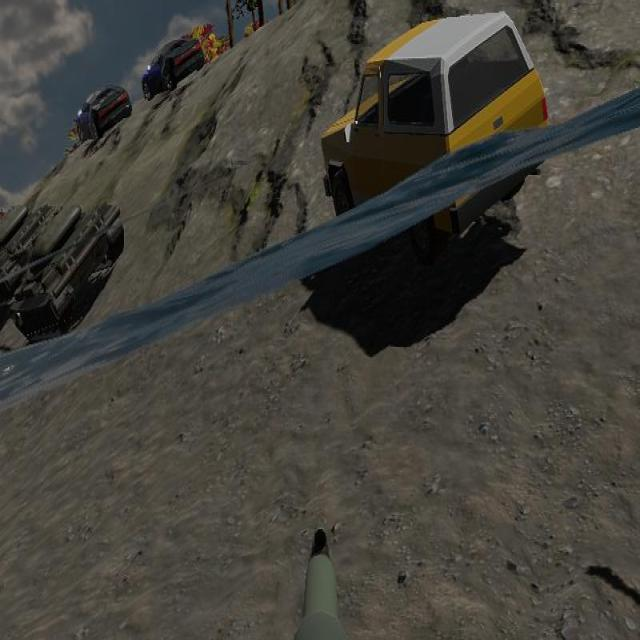Tank: (13, 200, 123, 335), (0, 200, 62, 323)
car: (319, 10, 548, 271), (142, 34, 205, 101), (76, 83, 132, 143)
